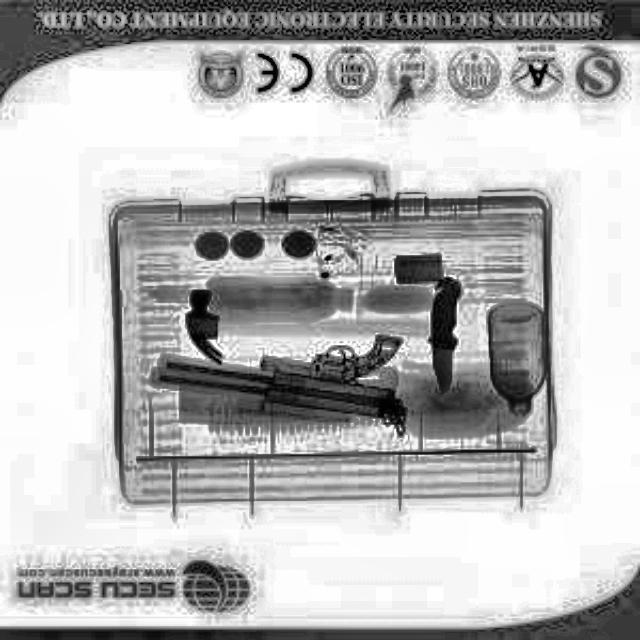Gun: (143, 330, 407, 420)
Knife: (426, 276, 462, 386)
